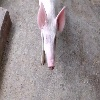heo: (35, 1, 66, 72)
